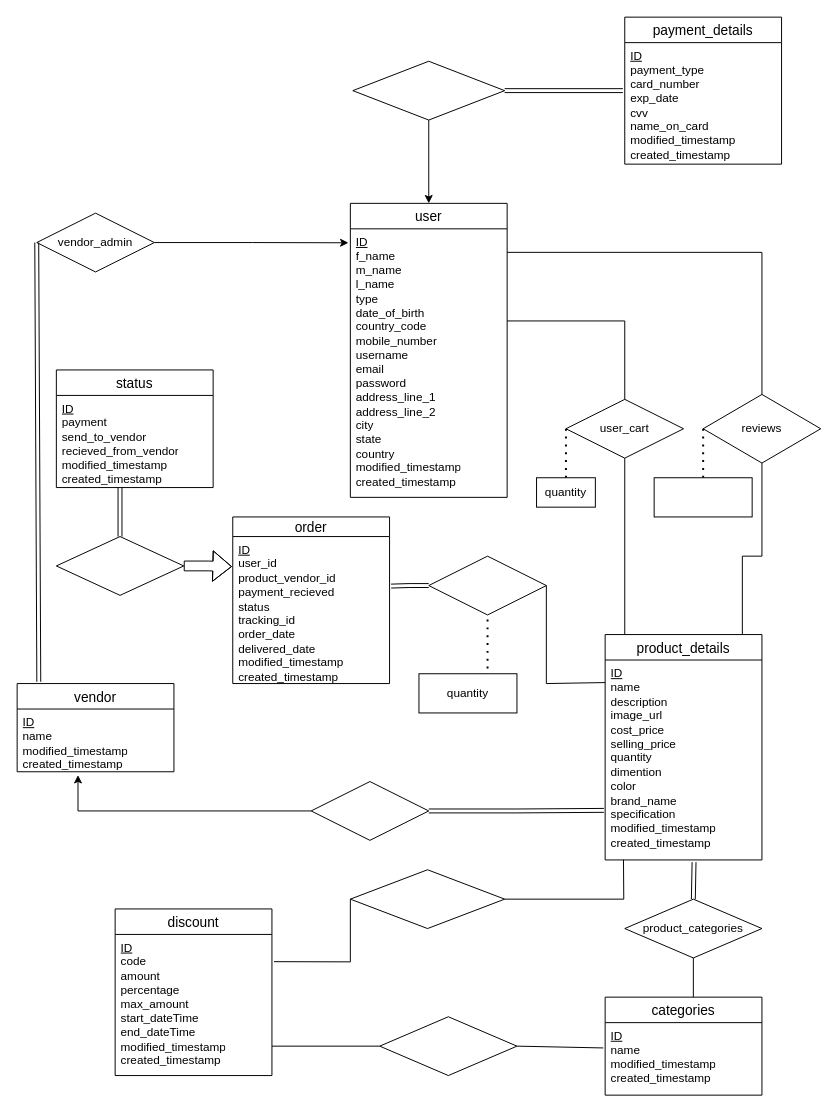
Some shapes in this 838 by 1115 pixel diagram are drawn without their labels. The centre of each missing label's shape, as x and y in pixels:
"description stars" belongs at point (702, 497).
"discount_categories" belongs at point (448, 1046).
"discount_on_products" belongs at point (427, 899).
"order_status" belongs at point (119, 565).
"product_ vendor" belongs at point (369, 810).
"product_ordered" belongs at point (487, 585).
"user_payment_details" belongs at point (428, 90).
